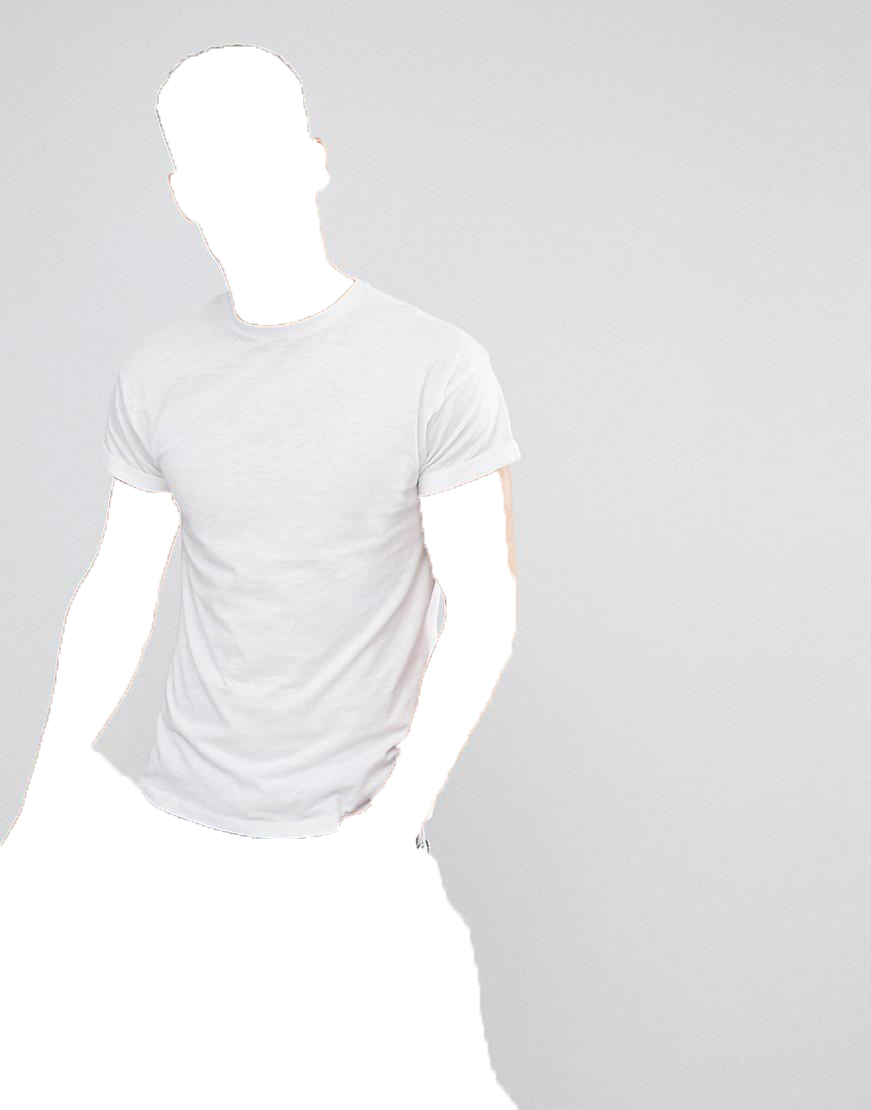teeshirt: (95, 285, 534, 847)
